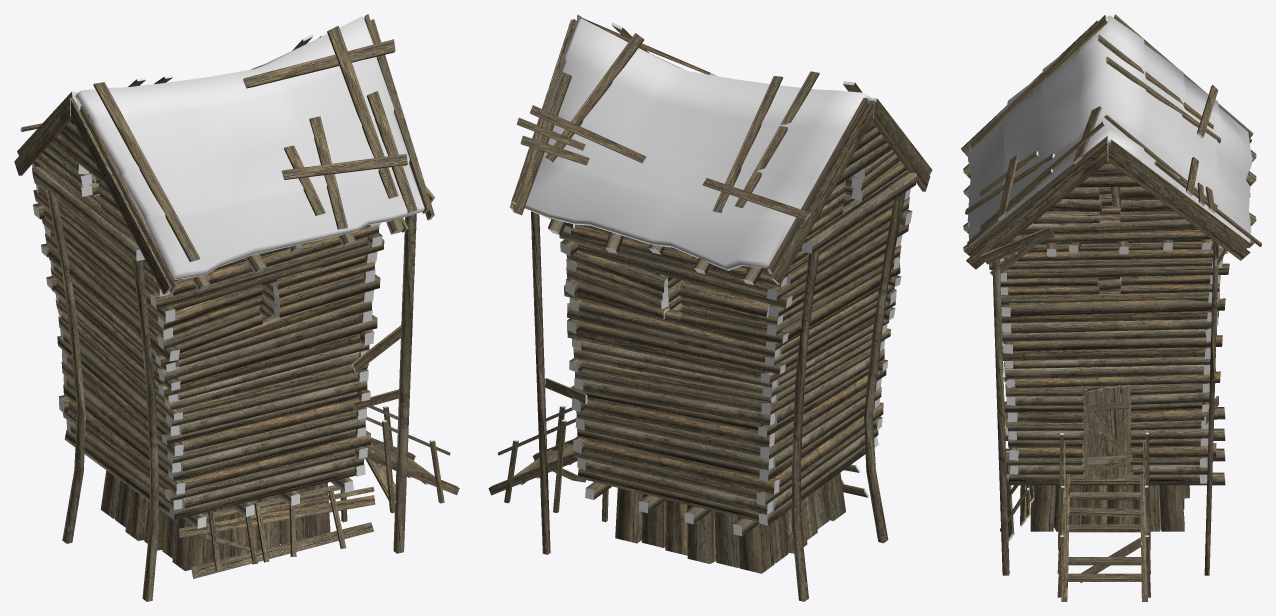
The model's file is Windmill1.fbx.
3 renders of one model, left to right at view 1: azimuth 30°, elevation 25°; view 2: azimuth 150°, elevation 25°; view 3: azimuth 270°, elevation 25°, orthographic. The views are drawn at different scales.
Parts seen in each view (by area): view 1: polySurface226; view 2: polySurface226; view 3: polySurface226.
Part boxes in pixels (x1,y1,x2,y2): polySurface226: (14, 14, 459, 601); polySurface226: (488, 14, 932, 601); polySurface226: (961, 14, 1261, 601).
Bounding box in the file's own units: 11.02 × 14.24 × 8.64.
